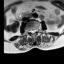CCS_stenosis: (32, 27, 34, 36)
LFS_normal: (36, 26, 38, 34)
LLS_normal: (34, 27, 36, 34)
RFS_normal: (28, 27, 30, 34)
RLS_normal: (30, 27, 32, 34)
